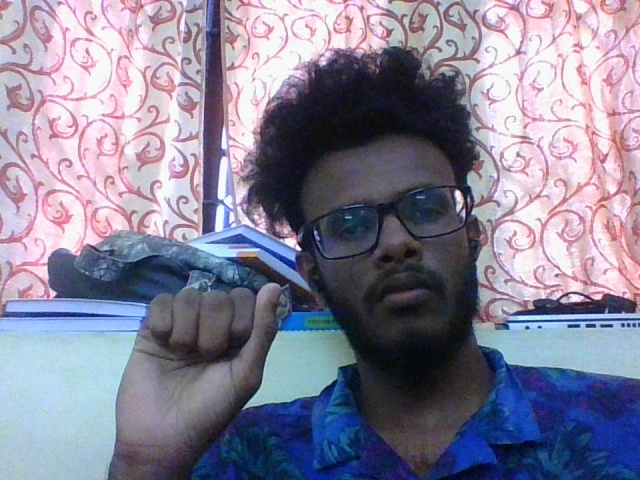yes: (108, 279, 293, 480)
